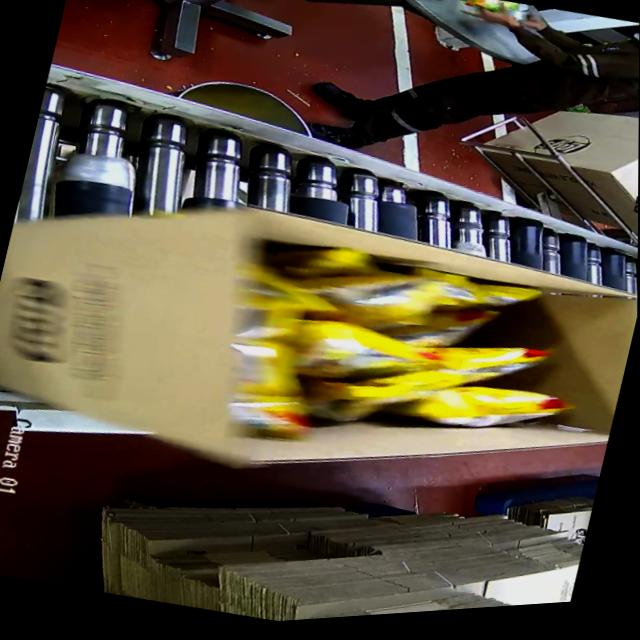SALTED: (218, 215, 594, 492)
